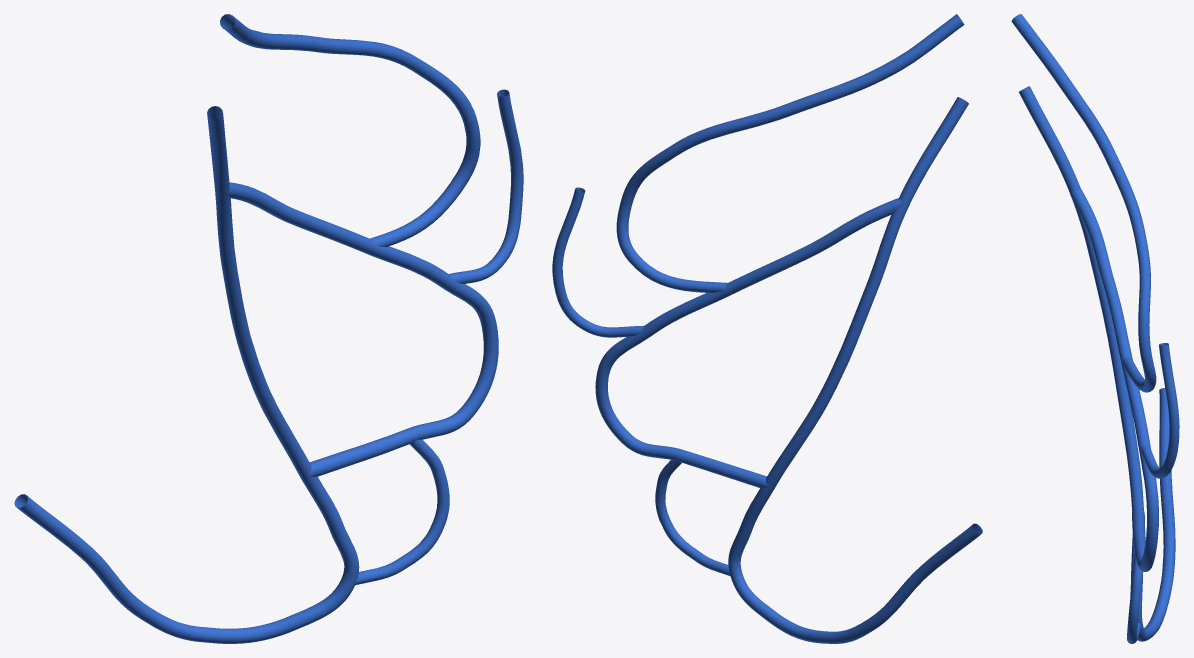
File: circulatorio-sigmoid-veins.glb
3 views of the same model, side by side, from view 1: azimuth 30°, elevation 25°; view 2: azimuth 150°, elevation 25°; view 3: azimuth 270°, elevation 25° (orthographic). The views are drawn at different scales.
Visible parts, largest first — view 1: Sigmoid veins; view 2: Sigmoid veins; view 3: Sigmoid veins.
Part boxes in pixels (box(x1,y1,x2,y2)): Sigmoid veins: box(14, 14, 523, 643); Sigmoid veins: box(552, 14, 982, 643); Sigmoid veins: box(1011, 14, 1179, 643).
Size of the model in its own units: 0.0659 by 0.088 by 0.0234.
